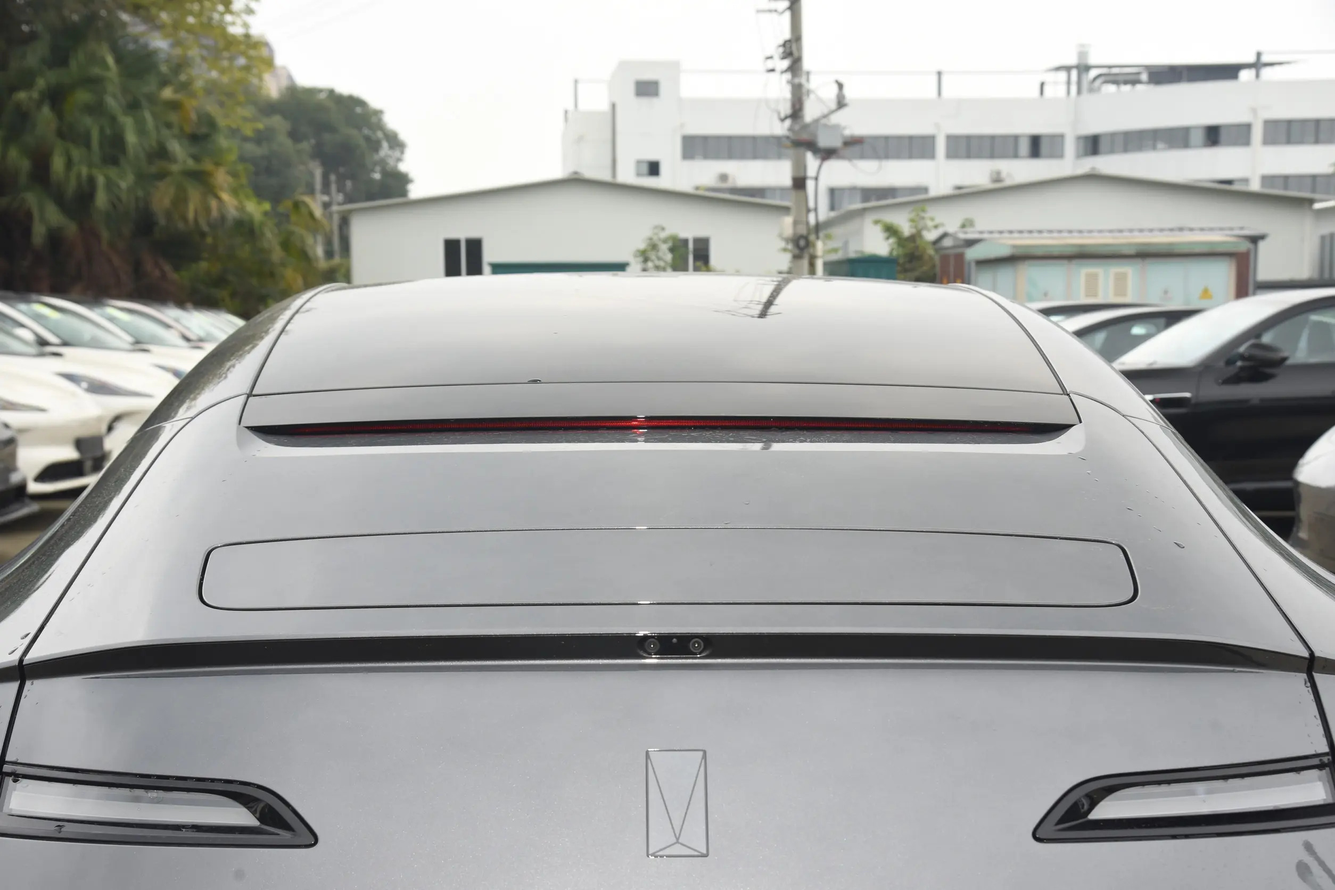AVATR: (646, 749, 708, 857)
